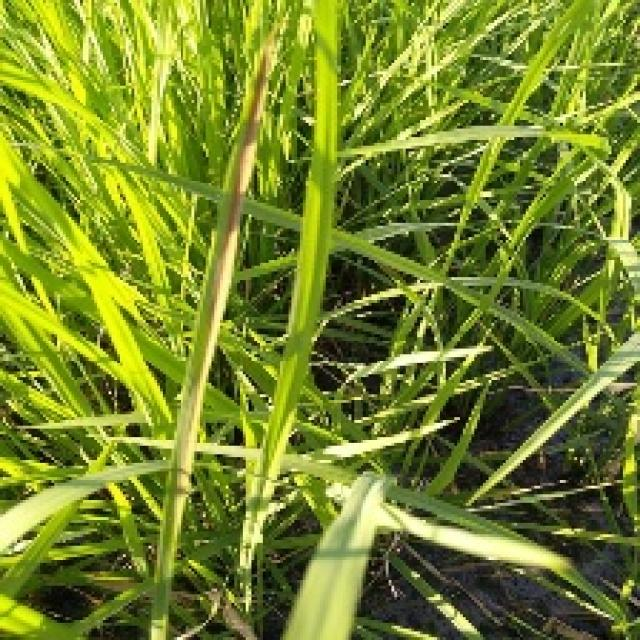Unhealthy: (192, 46, 265, 432)
